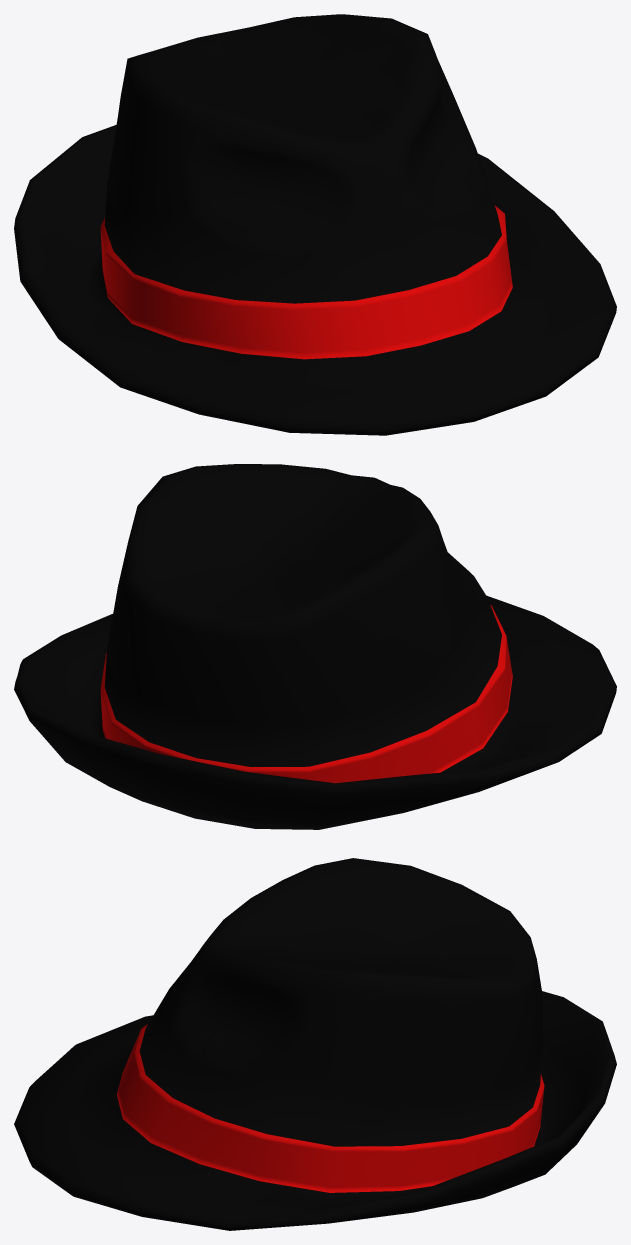
Rendered from Fedora.fbx.
3 renders of one model, top to bottom at view 1: azimuth 30°, elevation 25°; view 2: azimuth 150°, elevation 25°; view 3: azimuth 270°, elevation 25°, orthographic. The views are drawn at different scales.
Visible parts, largest first — view 1: roblox_fedora:Fedora; view 2: roblox_fedora:Fedora; view 3: roblox_fedora:Fedora.
Part boxes in pixels (x1,y1,x2,y2): roblox_fedora:Fedora: (14, 14, 616, 435); roblox_fedora:Fedora: (14, 464, 616, 829); roblox_fedora:Fedora: (14, 858, 616, 1230).
Size of the model in its own units: 30.2 by 13.82 by 33.5.
